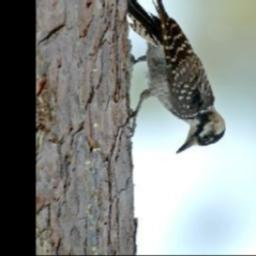Woodpecker: (116, 0, 228, 154)
